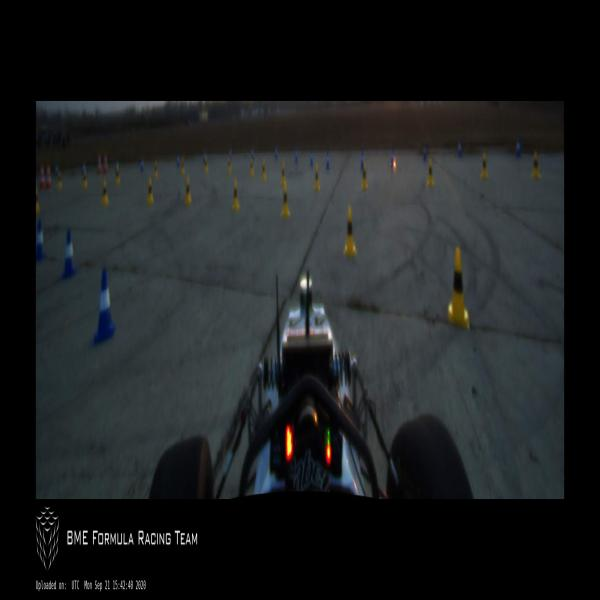blue_cone: (93, 266, 115, 343), (63, 227, 77, 280), (36, 219, 46, 260), (390, 149, 396, 168), (516, 137, 520, 157), (360, 153, 364, 170), (310, 150, 314, 167), (458, 141, 462, 156), (326, 152, 329, 172), (423, 146, 426, 163), (141, 157, 144, 172), (295, 149, 298, 163), (275, 146, 277, 159), (229, 146, 231, 159), (252, 147, 254, 159), (178, 153, 179, 167)
large_orange_cone: (46, 160, 52, 189), (40, 159, 45, 188), (103, 151, 108, 174), (98, 148, 102, 173)
yellow_cone: (448, 247, 468, 328), (343, 208, 356, 258), (281, 185, 290, 220), (232, 181, 240, 211), (531, 154, 540, 179), (480, 153, 488, 179), (185, 176, 191, 206), (428, 158, 434, 188), (147, 182, 154, 205), (102, 179, 108, 205), (362, 163, 368, 189), (280, 166, 286, 189), (314, 165, 319, 190), (57, 170, 63, 190), (180, 157, 186, 176), (82, 170, 87, 191), (36, 188, 40, 214), (204, 154, 209, 174), (115, 166, 120, 184), (262, 160, 266, 180), (154, 160, 158, 179), (250, 159, 254, 174), (228, 157, 231, 176)
